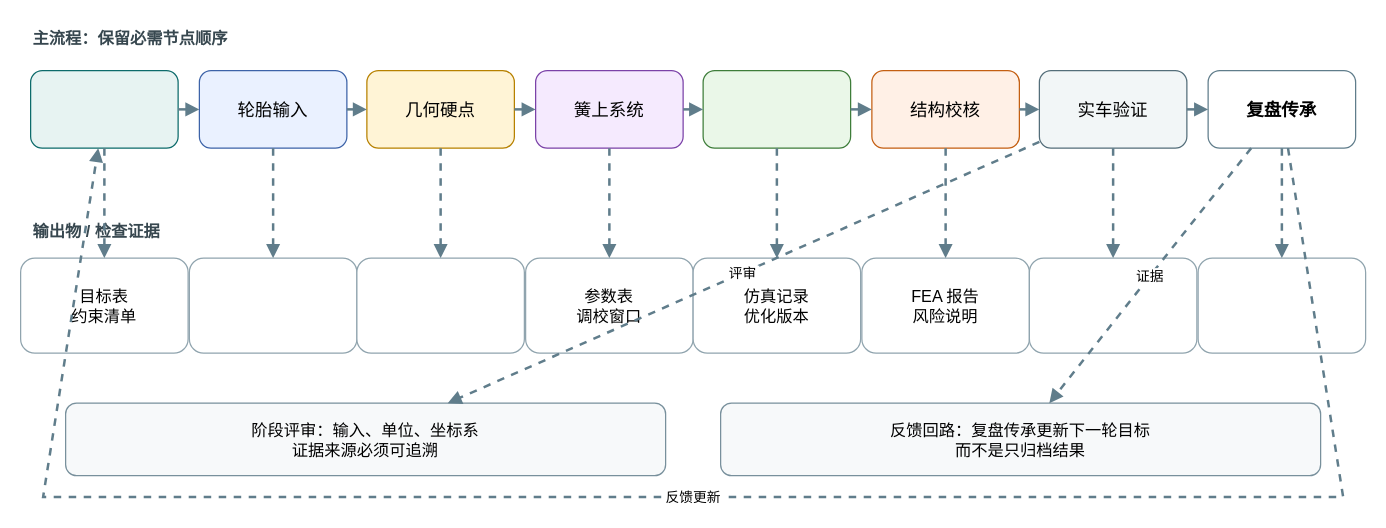
The diagram is 1386 pixels wide and 528 high, and some of its shapes have lost their labels. Each missing label, with the centre of its shape:
"仿真优化" goes at point 776,108.
"复盘记录 下一季输入" goes at point 1281,305.
"测试数据 车手反馈" goes at point 1112,305.
"目标" goes at point 103,108.
"硬点表 包络记录" goes at point 440,305.
"轮胎模型 适用范围" goes at point 272,305.
